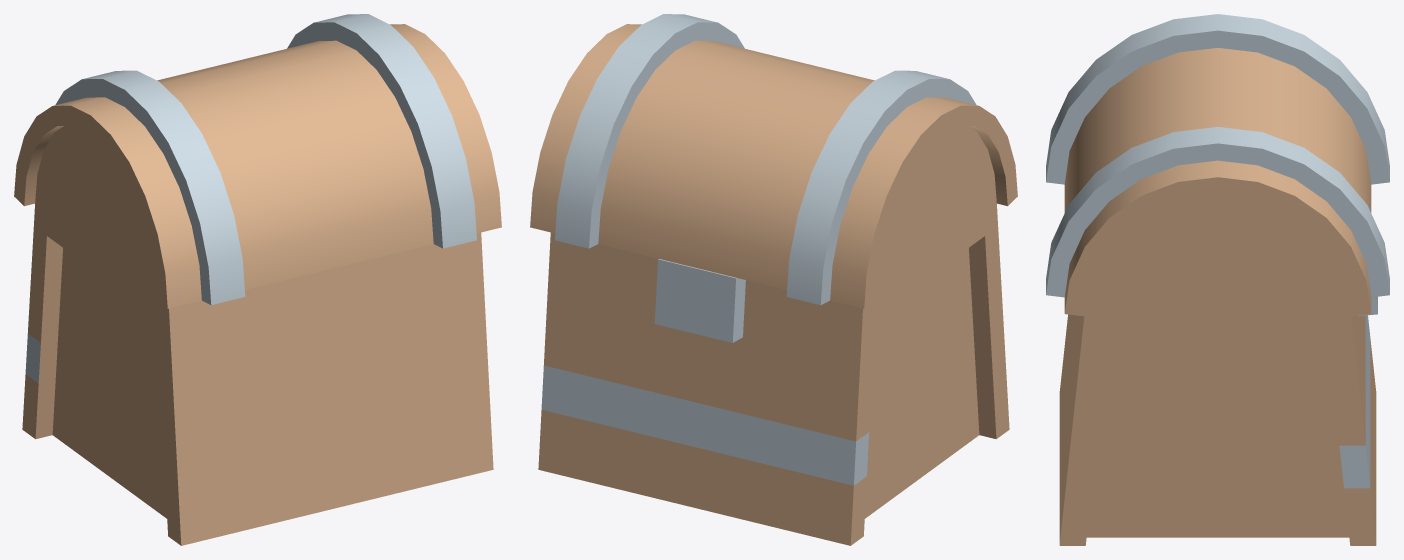
The model's file is chest.glb.
The picture shows the model from 3 angles, left to right: view 1: azimuth 30°, elevation 25°; view 2: azimuth 150°, elevation 25°; view 3: azimuth 270°, elevation 25°; orthographic projection.
Visible parts, largest first — view 1: chest, lid; view 2: chest, lid; view 3: lid, chest.
Part boxes in pixels (x1,y1,x2,y2): chest: [22, 204, 493, 545]; lid: [14, 14, 501, 308]; chest: [538, 204, 1009, 545]; lid: [530, 14, 1017, 308]; lid: [1046, 14, 1389, 316]; chest: [1059, 296, 1377, 545].
Bounding box in the file's own units: 0.4896 × 0.5492 × 0.4375.
